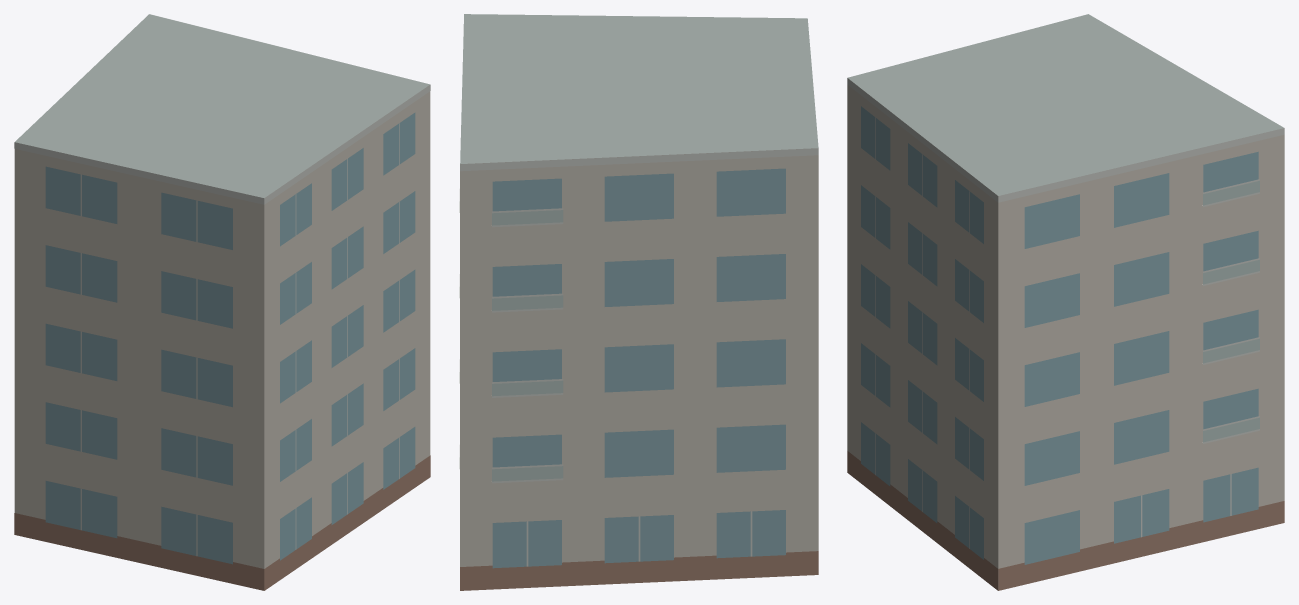
The model's file is survey-upis-32762787.glb.
3 views of the same model, side by side, from view 1: azimuth 30°, elevation 25°; view 2: azimuth 150°, elevation 25°; view 3: azimuth 270°, elevation 25° (orthographic). The views are drawn at different scales.
Visible parts, largest first — view 1: survey-upis-32762787.tmp; view 2: survey-upis-32762787.tmp; view 3: survey-upis-32762787.tmp.
Boxes of the visible parts, x1,y1,x2,y2 form: survey-upis-32762787.tmp: (14, 14, 430, 590); survey-upis-32762787.tmp: (459, 14, 818, 590); survey-upis-32762787.tmp: (847, 14, 1284, 590).
Size of the model in its own units: 14.35 by 14.5 by 14.57.
